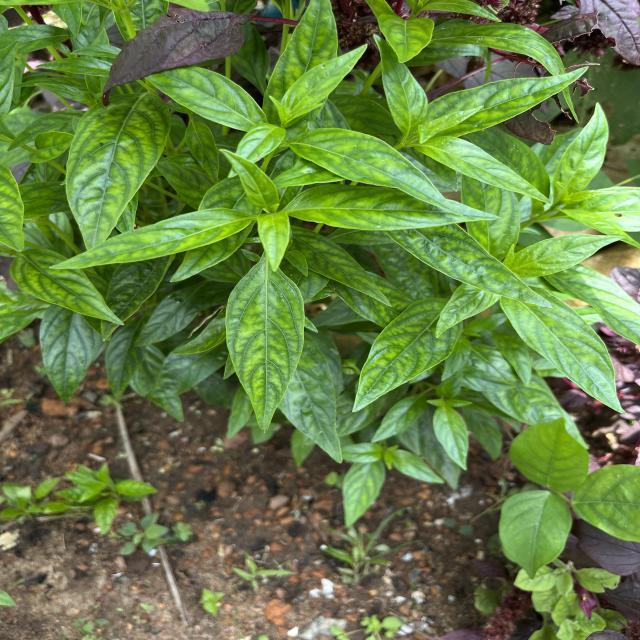Andrographis paniculata: (64, 91, 172, 252), (286, 127, 466, 218), (500, 290, 630, 416), (223, 255, 307, 435), (350, 296, 465, 415), (48, 206, 257, 270), (432, 64, 594, 138), (7, 247, 130, 330), (288, 185, 504, 232), (416, 140, 554, 207), (286, 225, 394, 308), (278, 43, 368, 124), (554, 102, 612, 195), (511, 231, 627, 277), (341, 462, 387, 530), (186, 122, 220, 184)
